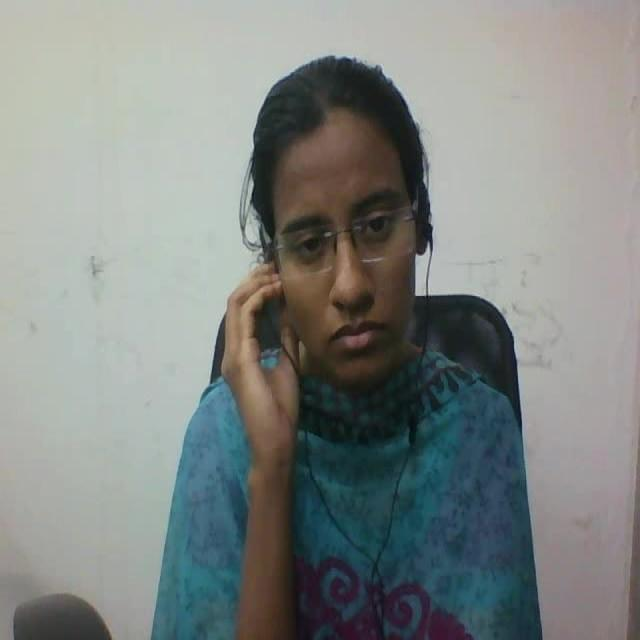Bored: (210, 58, 482, 452)
